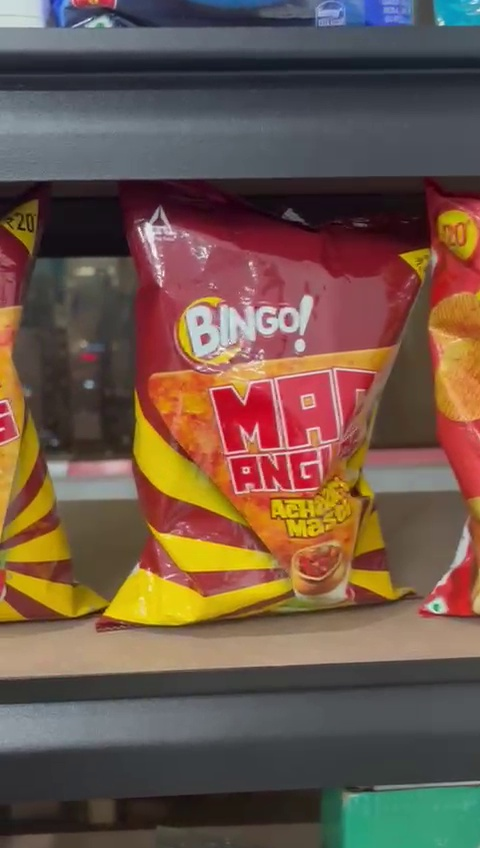Bingo Mad Angles: (119, 188, 403, 624)
